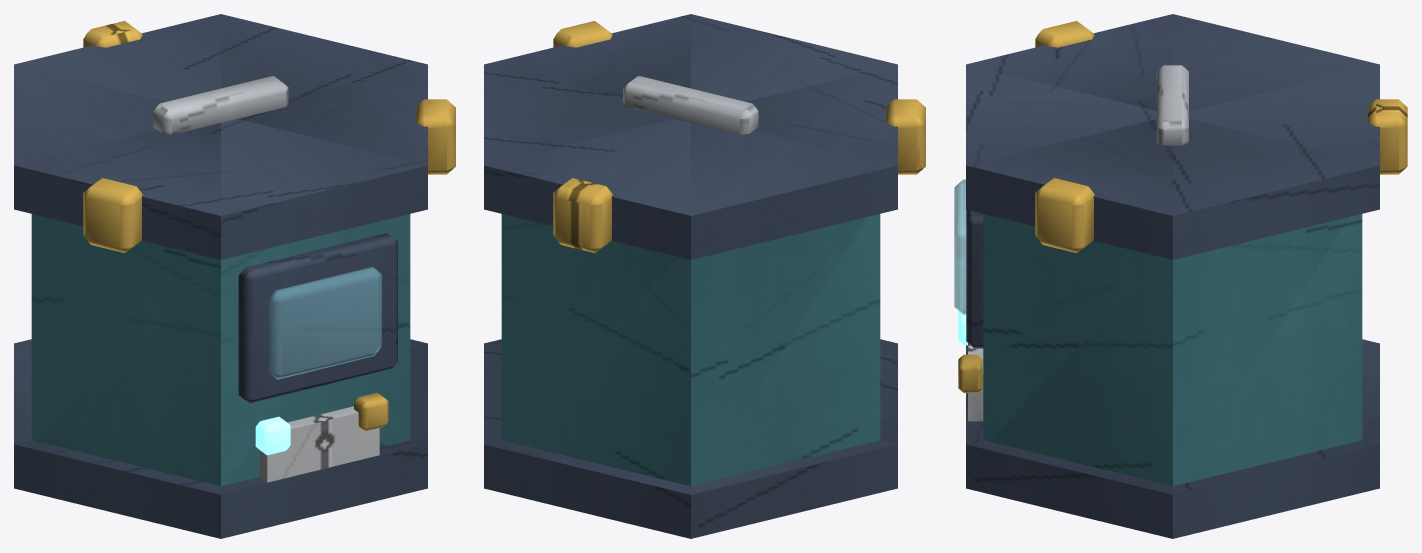
Rendered from mineral_vault.glb.
The picture shows the model from 3 angles, left to right: view 1: azimuth 30°, elevation 25°; view 2: azimuth 150°, elevation 25°; view 3: azimuth 270°, elevation 25°; orthographic projection.
Visible parts, largest first — view 1: DL004_MineralVault_graphite_navy, DL004_MineralVault_teal_shell, DL004_MineralVault_glass_cyan, DL004_MineralVault_amber_accent, DL004_MineralVault_hull_offwhite, DL004_MineralVault_titanium, DL004_MineralVault_emissive_cyan; view 2: DL004_MineralVault_graphite_navy, DL004_MineralVault_teal_shell, DL004_MineralVault_amber_accent, DL004_MineralVault_titanium; view 3: DL004_MineralVault_graphite_navy, DL004_MineralVault_teal_shell, DL004_MineralVault_amber_accent, DL004_MineralVault_titanium, DL004_MineralVault_glass_cyan, DL004_MineralVault_hull_offwhite.
Boxes of the visible parts, x1,y1,x2,y2 form: DL004_MineralVault_graphite_navy: (14, 14, 427, 538); DL004_MineralVault_teal_shell: (31, 214, 410, 486); DL004_MineralVault_glass_cyan: (268, 267, 381, 379); DL004_MineralVault_amber_accent: (83, 21, 455, 431); DL004_MineralVault_hull_offwhite: (259, 406, 379, 482); DL004_MineralVault_titanium: (153, 75, 288, 134); DL004_MineralVault_emissive_cyan: (255, 416, 290, 455); DL004_MineralVault_graphite_navy: (484, 14, 897, 538); DL004_MineralVault_teal_shell: (501, 214, 880, 486); DL004_MineralVault_amber_accent: (553, 21, 925, 252); DL004_MineralVault_titanium: (623, 75, 758, 134); DL004_MineralVault_graphite_navy: (966, 14, 1379, 538); DL004_MineralVault_teal_shell: (983, 214, 1362, 486); DL004_MineralVault_amber_accent: (958, 21, 1407, 392); DL004_MineralVault_titanium: (1156, 65, 1188, 145); DL004_MineralVault_glass_cyan: (954, 179, 966, 314); DL004_MineralVault_hull_offwhite: (968, 343, 983, 421).
Bounding box in the file's own units: 0.59 × 0.47 × 0.56.
7 materials, 5 textured.
